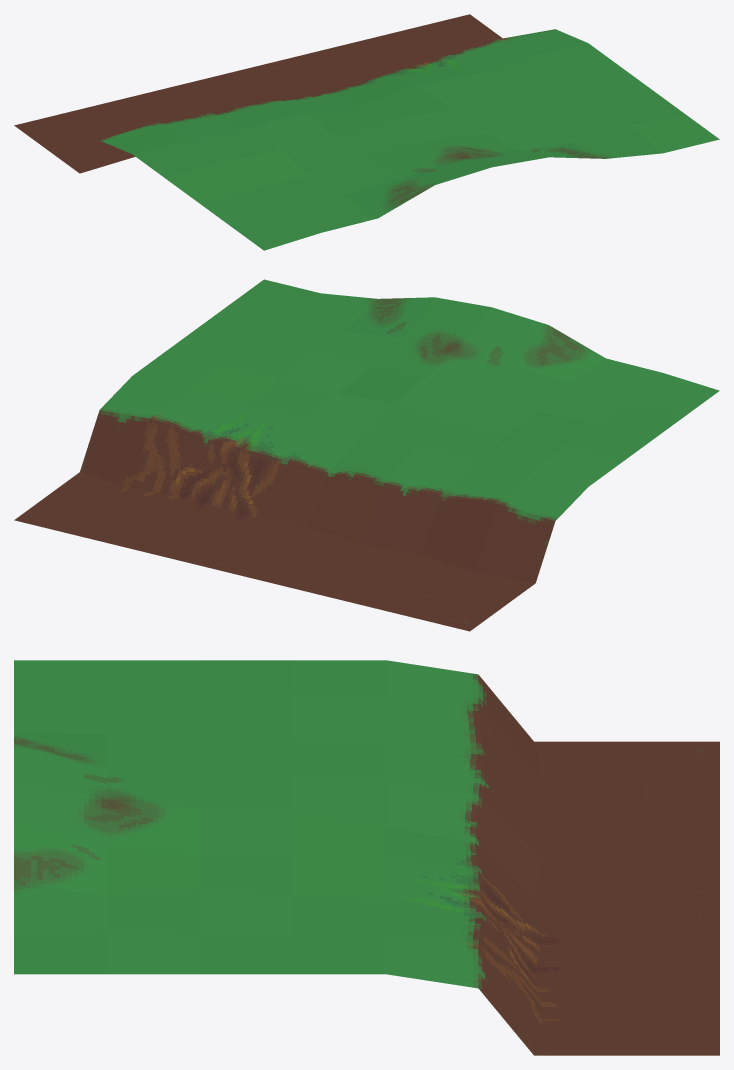
File: BACKGROUND.glb
3 renders of one model, top to bottom at view 1: azimuth 30°, elevation 25°; view 2: azimuth 150°, elevation 25°; view 3: azimuth 270°, elevation 25°, orthographic. The views are drawn at different scales.
Parts seen in each view (by area): view 1: Plane.002; view 2: Plane.002; view 3: Plane.002.
Boxes of the visible parts, x1,y1,x2,y2 form: Plane.002: (14,14,719,250); Plane.002: (14,279,719,631); Plane.002: (14,660,719,1055).
Size of the model in its own units: 20 by 3.59 by 19.
Materials: 1 (1 with a texture image).
